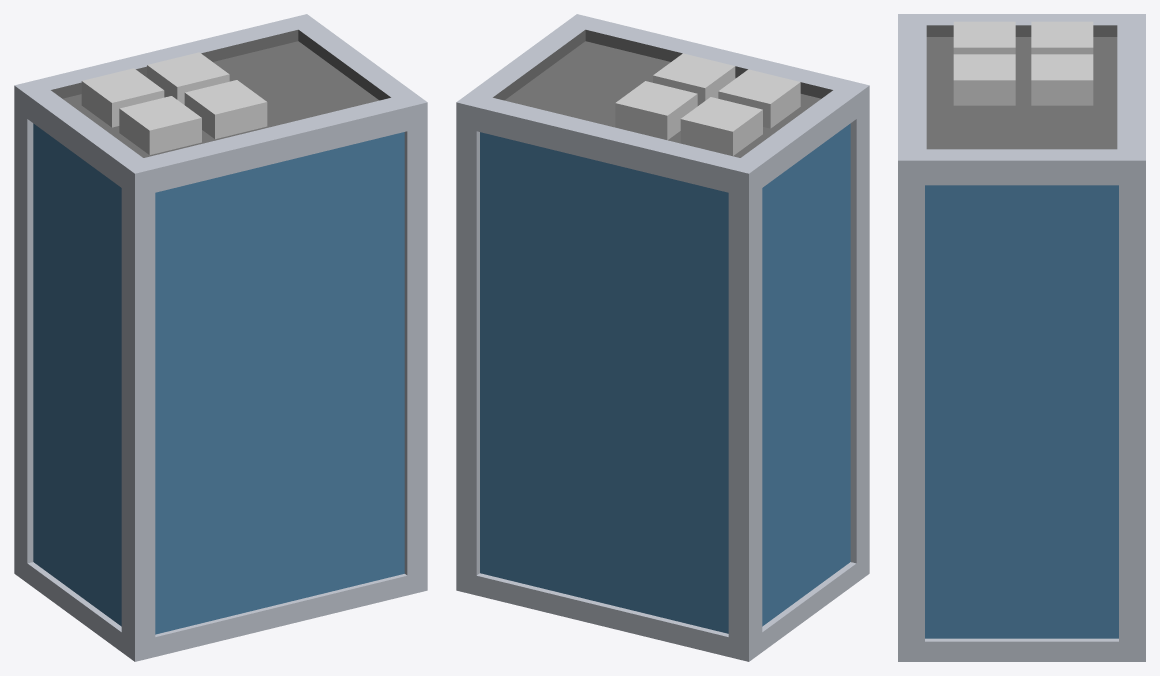
The model's file is Tower.fbx.
The picture shows the model from 3 angles, left to right: view 1: azimuth 30°, elevation 25°; view 2: azimuth 150°, elevation 25°; view 3: azimuth 270°, elevation 25°; orthographic projection. The views are drawn at different scales.
Parts seen in each view (by area): view 1: Tower; view 2: Tower; view 3: Tower.
Boxes of the visible parts, x1=… form: Tower: x1=14, y1=14, x2=427, y2=661; Tower: x1=456, y1=14, x2=869, y2=661; Tower: x1=898, y1=14, x2=1145, y2=661.
Size of the model in its own units: 1120 by 1833 by 800.
